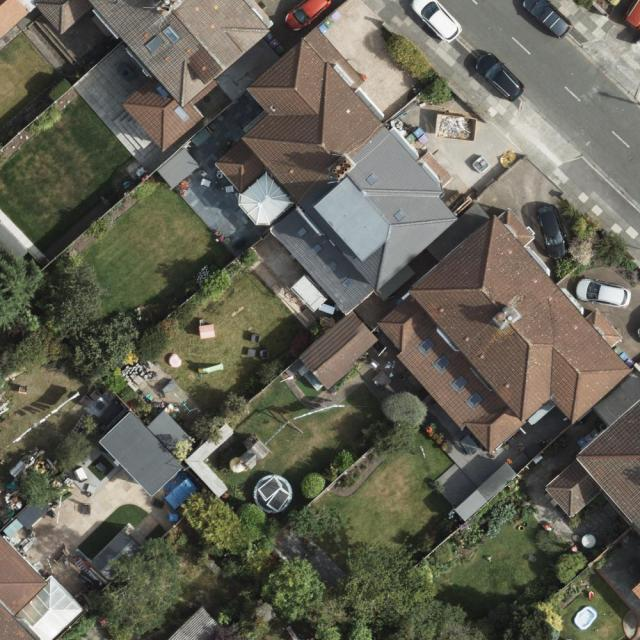roof: (33, 0, 640, 533), (0, 533, 84, 640)
skylight: (415, 336, 436, 357), (448, 373, 468, 395), (431, 354, 452, 374), (162, 25, 182, 45), (145, 33, 164, 53), (174, 105, 191, 123), (467, 392, 483, 410), (364, 170, 380, 186), (392, 207, 407, 222), (156, 85, 170, 100), (325, 259, 339, 272), (309, 244, 323, 257), (340, 277, 354, 289), (297, 226, 308, 238)
